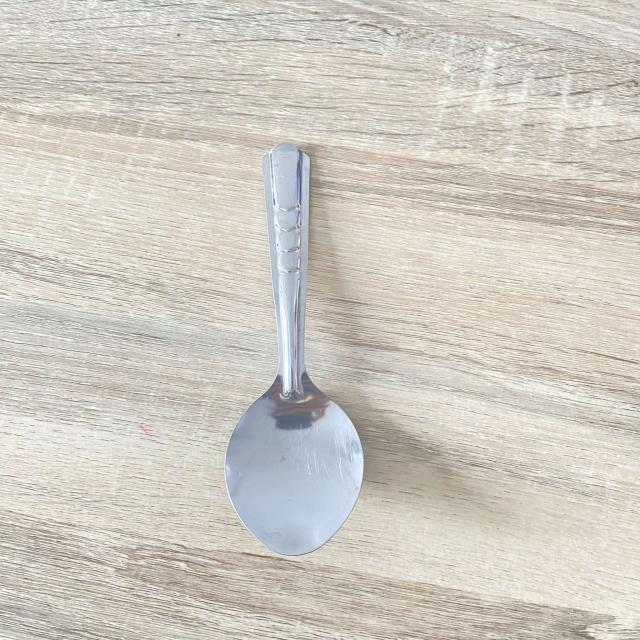spoon: (219, 138, 374, 568)
